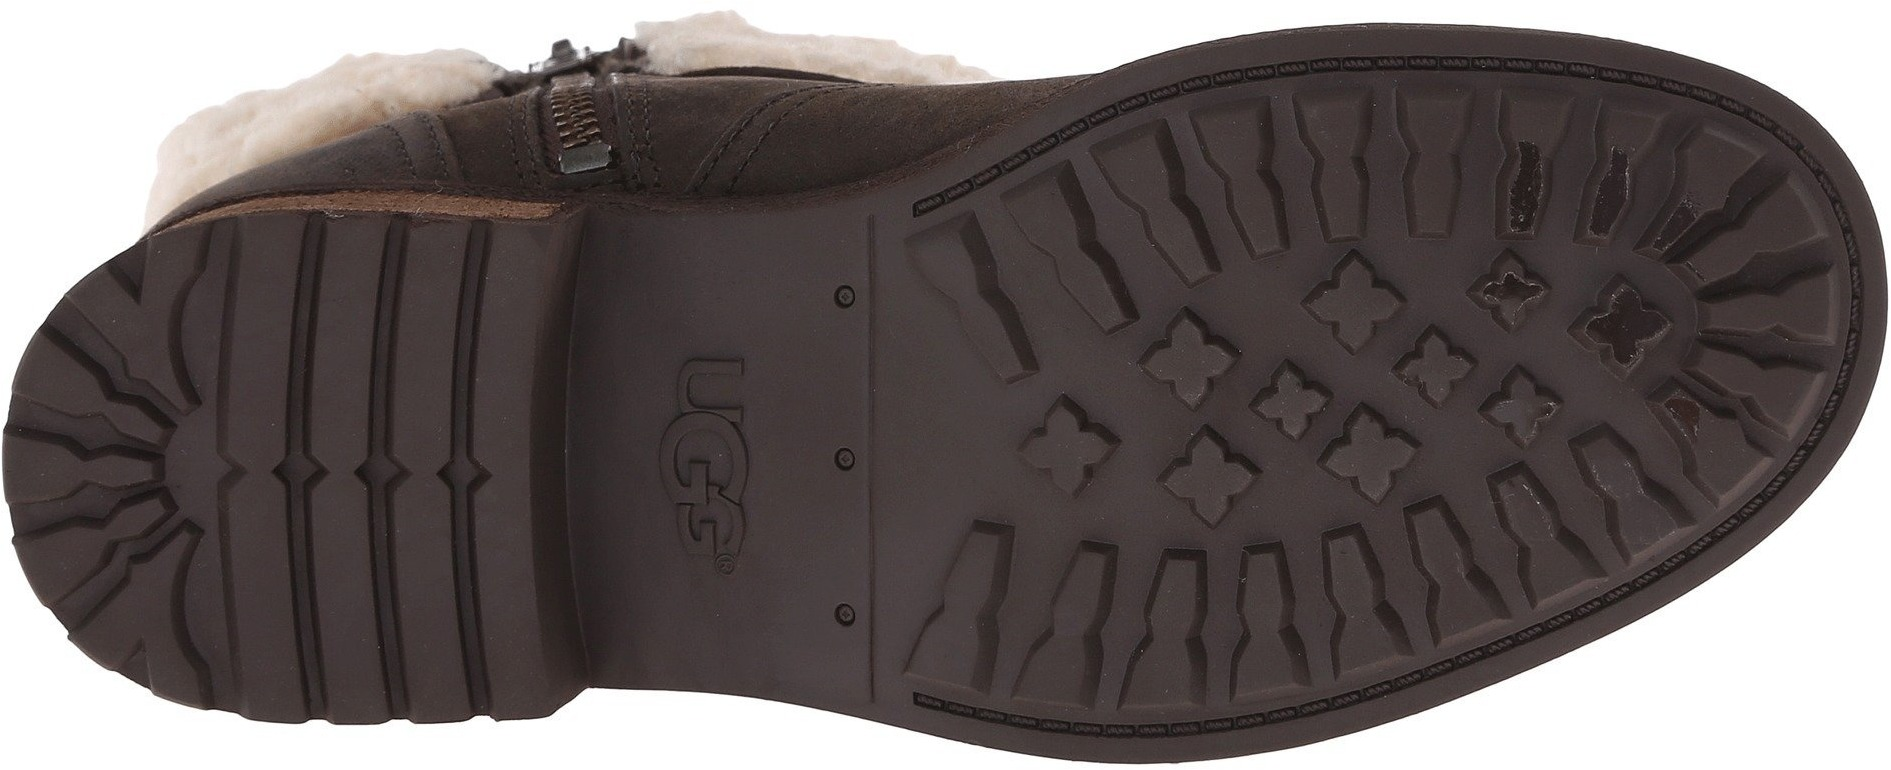bowtie: (953, 527, 1183, 743), (1206, 527, 1410, 737), (0, 313, 195, 531), (1651, 224, 1857, 424), (1184, 72, 1380, 278), (41, 372, 230, 567)
exclude: (525, 142, 902, 768)
quad: (235, 218, 488, 463), (229, 486, 459, 706)
star: (1149, 290, 1368, 513), (1387, 245, 1590, 451)
text: (631, 352, 824, 537)
